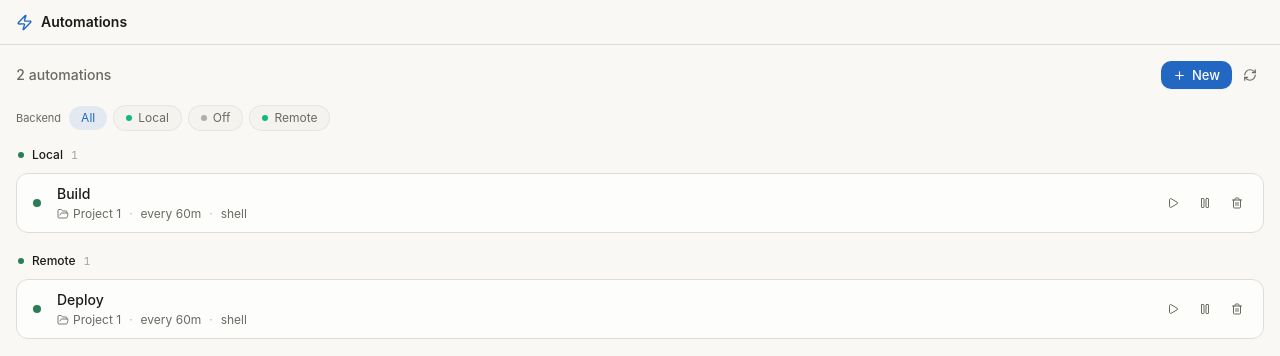
Scenario: AutomationContent › fetches every online backend and narrows through the Backend chips
Expected: the button "Build" is shown, [57,184,90,204]
Expected: the button "Deploy" is shown, [57,290,104,310]
What coordinates should you click on to do the following:
click the button "Remote"
I would click on:
 (290, 118)
Its box is [249,105,330,131].
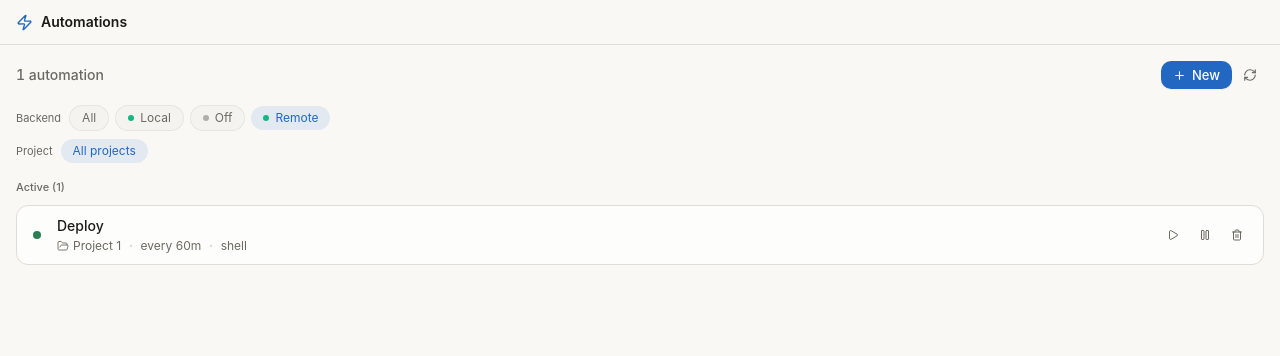
Expected: the button "Deploy" is shown, [57,216,104,236]
Expected: the button "Build" is gone
